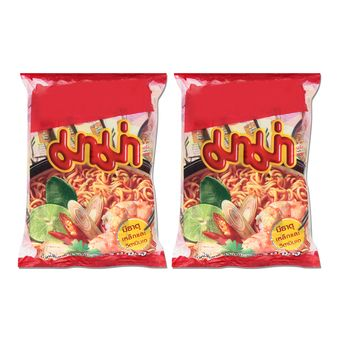Snack: (17, 70, 169, 271)
